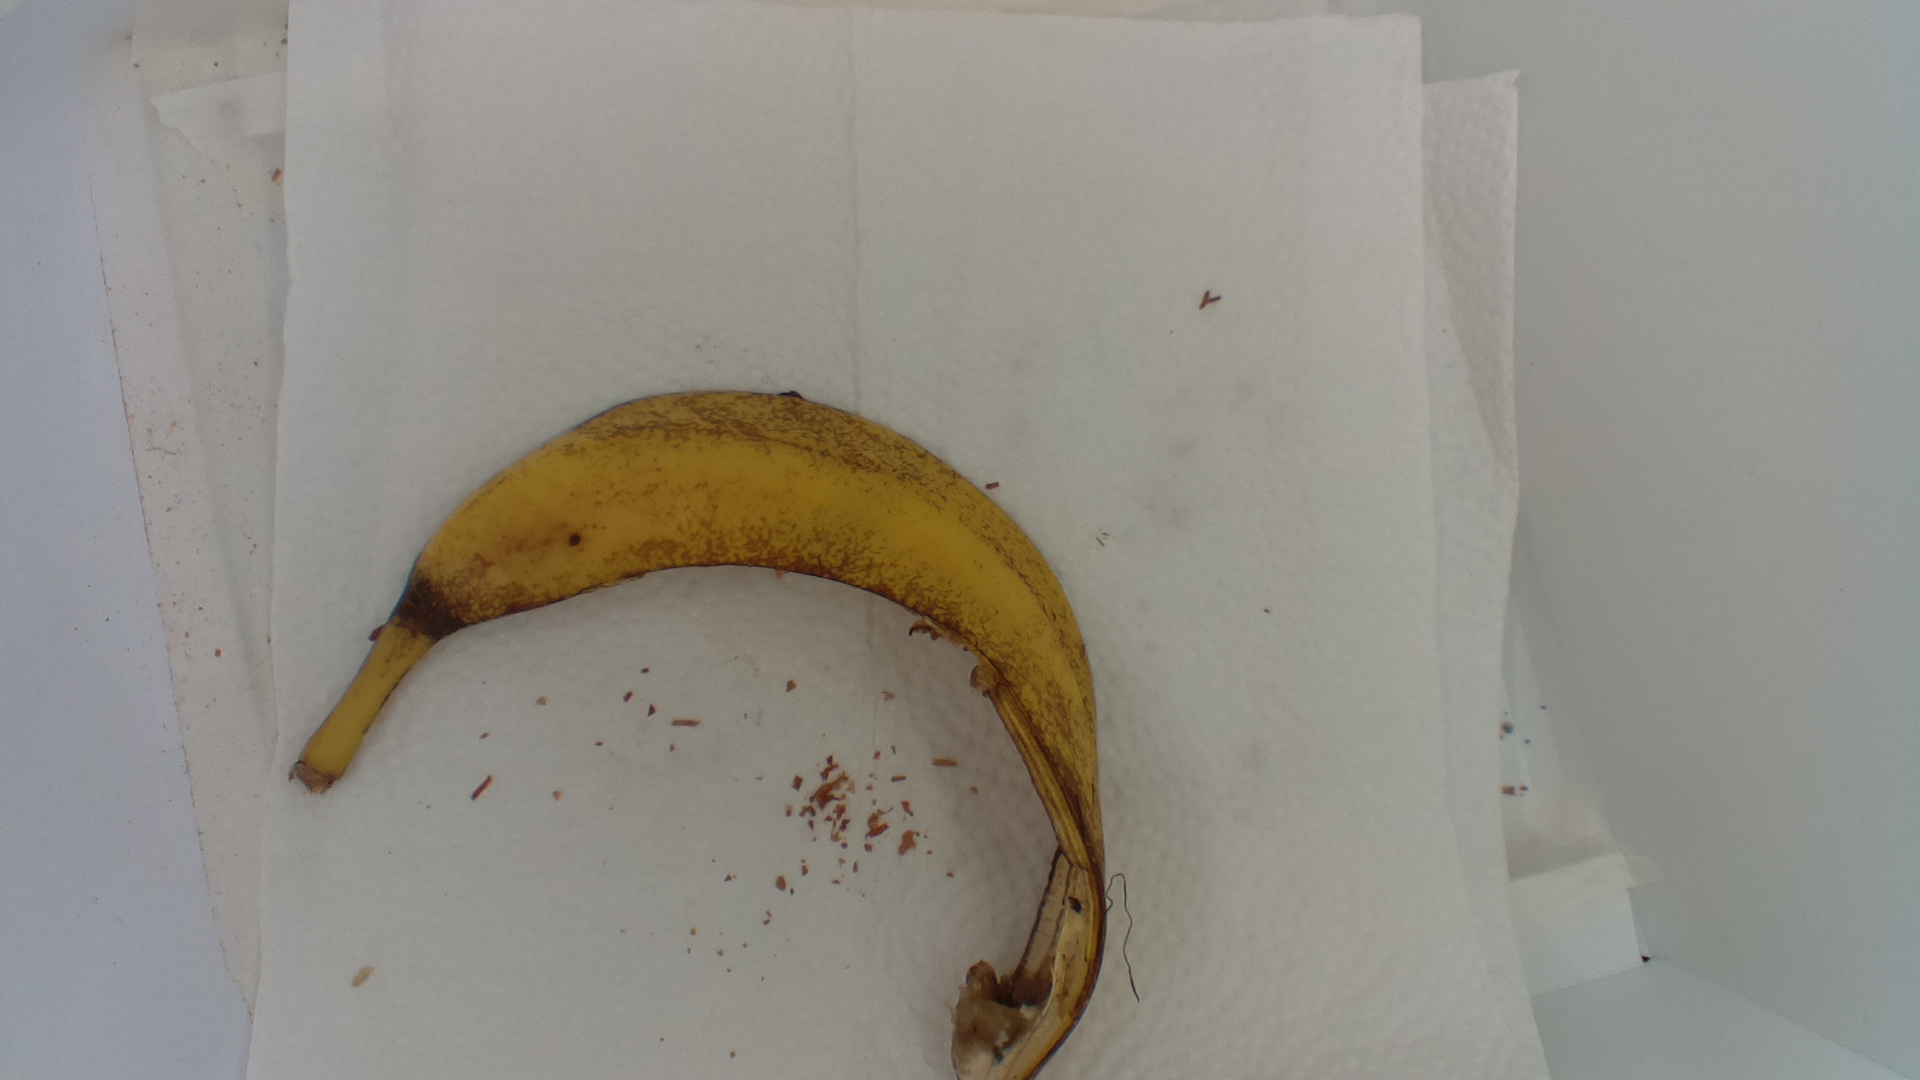fruit: (291, 385, 1122, 1080)
